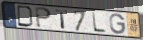7: (73, 10, 87, 32)
D: (16, 4, 35, 28)
G: (109, 13, 127, 35)
L: (91, 11, 107, 34)
P: (35, 6, 53, 29)
T: (55, 9, 70, 30)
